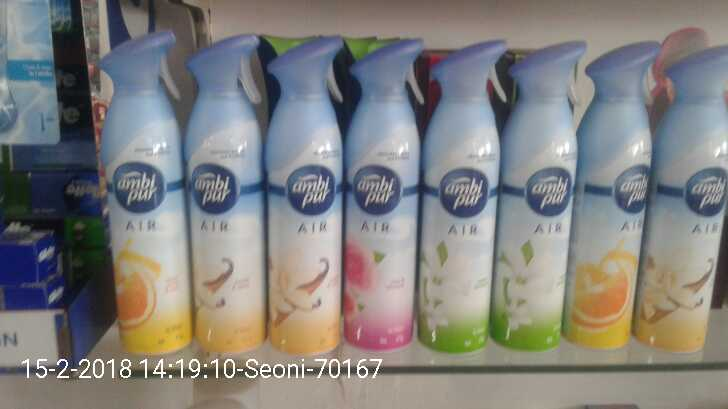ambipure: (100, 34, 186, 348), (637, 34, 723, 344), (187, 31, 262, 353), (264, 30, 337, 355), (569, 29, 641, 352), (498, 28, 568, 351), (344, 25, 413, 350), (424, 28, 487, 352)
